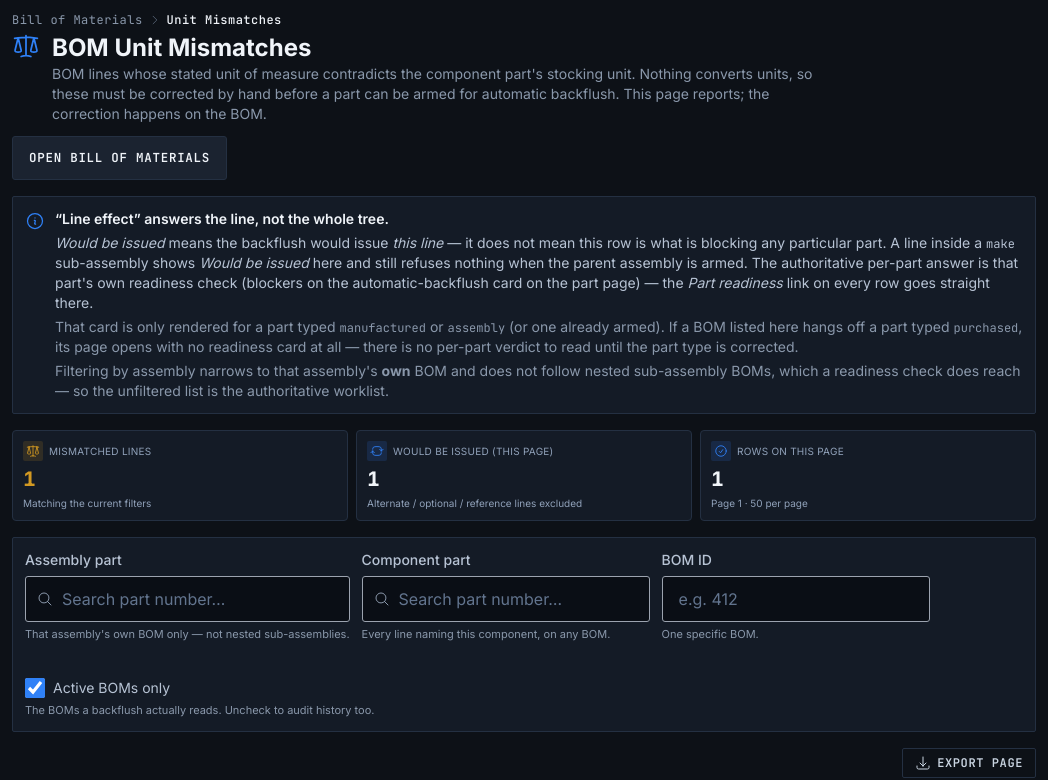
BOMUomMismatches — filters drive the request params › the assembly picker resolves a part number to part_id and filters by it
Type "ASSY" into the field labelled "Assembly part".
click(187, 598); type("ASSY")  # box left=25, top=576, right=350, bottom=622
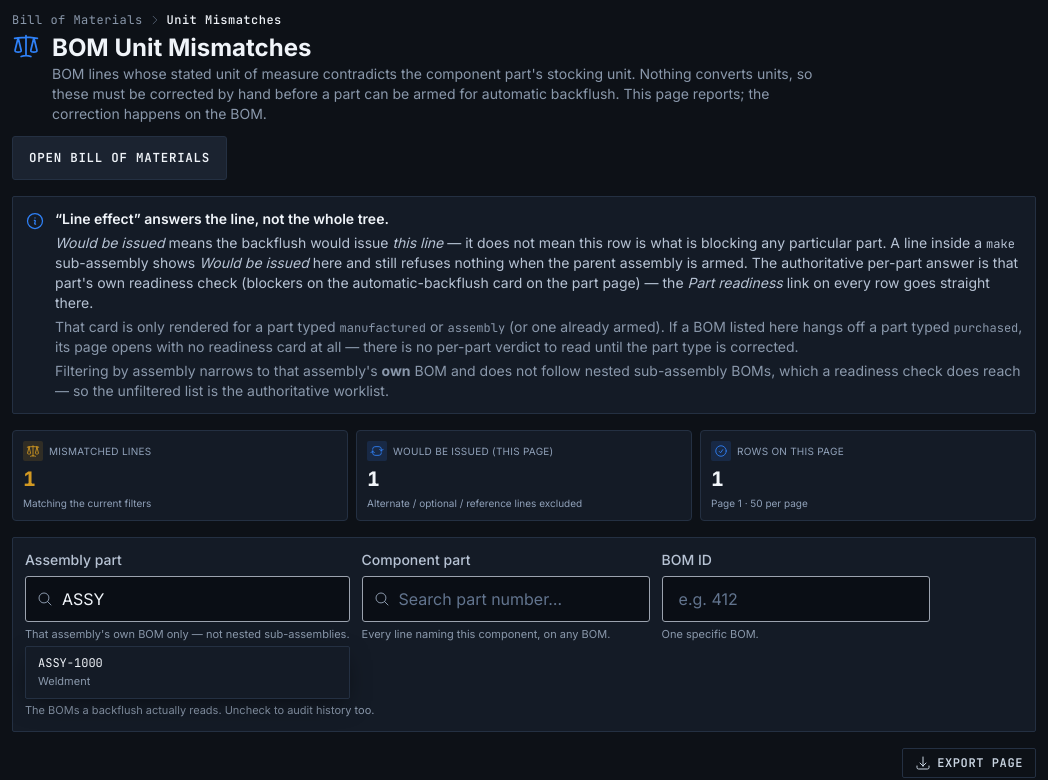
Click the button "ASSY-1000 Weldment".
click(70, 663)  # box left=26, top=647, right=349, bottom=698
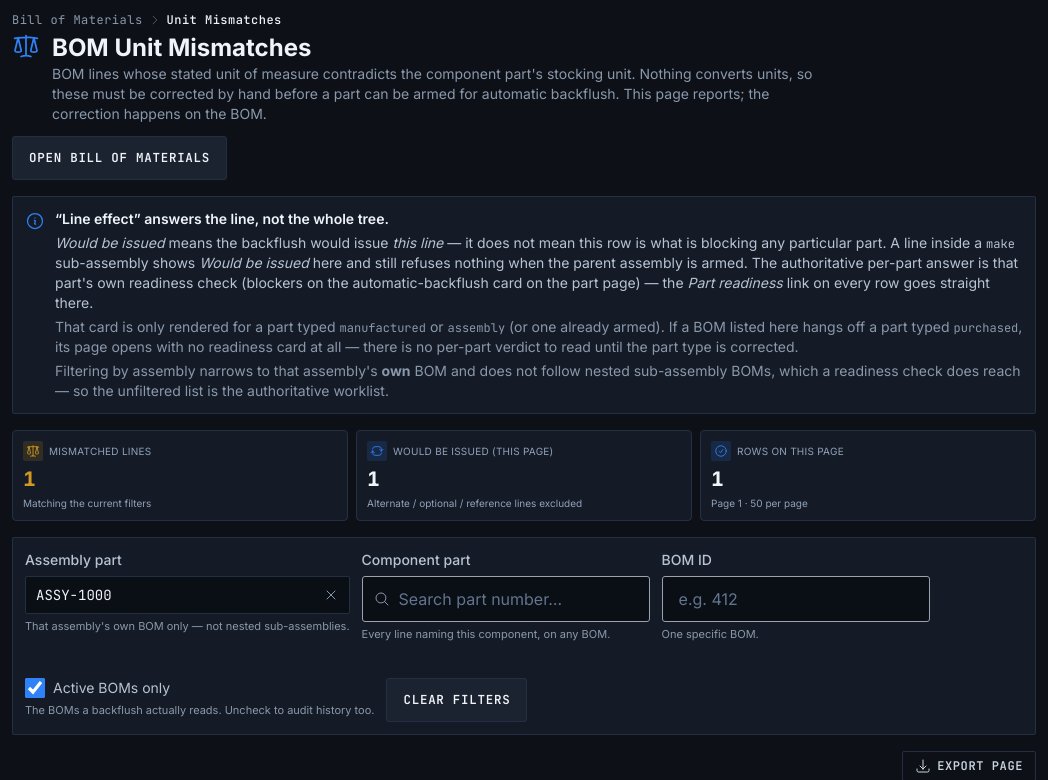
Now the button named "Clear Assembly part filter" is shown, box left=323, top=586, right=339, bottom=602
